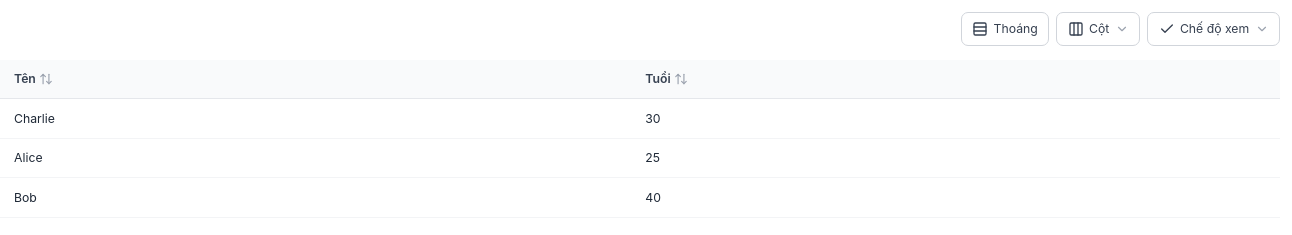
Test: DataTable › đổi mật độ bảng (comfortable <-> compact)
Step 1. Click the button with aria-label "mật độ" → [1005, 29], box left=961, top=12, right=1049, bottom=46
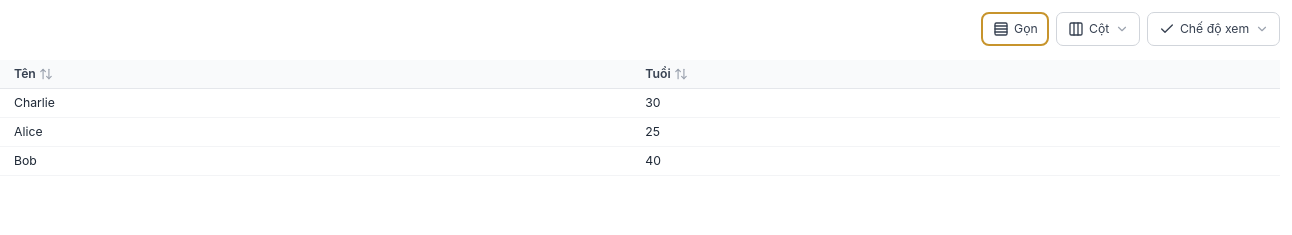
Check: the button with aria-label "mật độ" reads "Gọn", box left=981, top=12, right=1049, bottom=46
